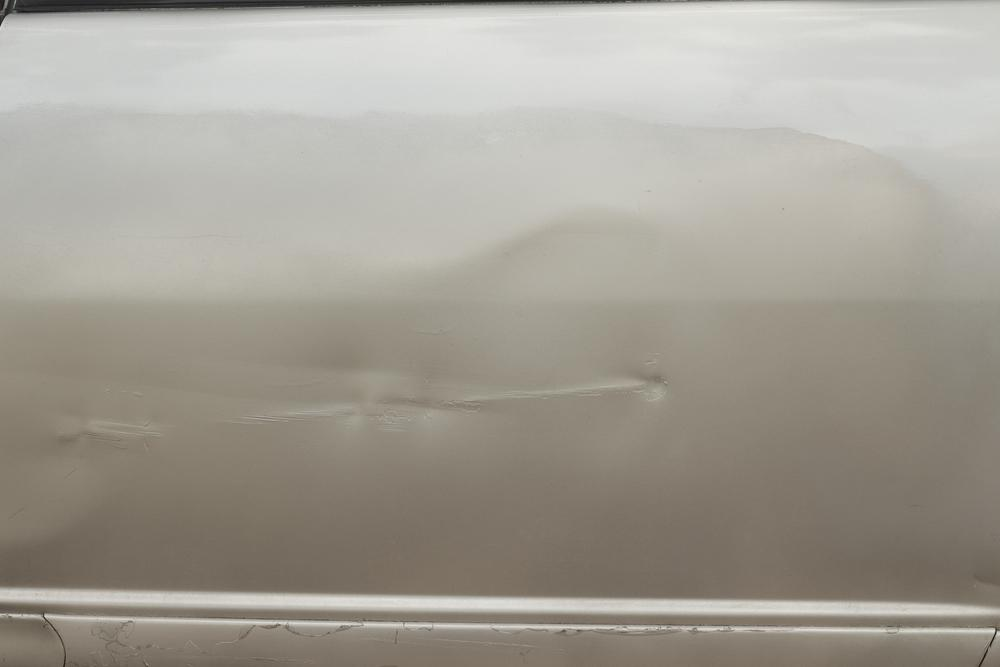dent: (229, 220, 695, 458), (0, 363, 141, 544)
